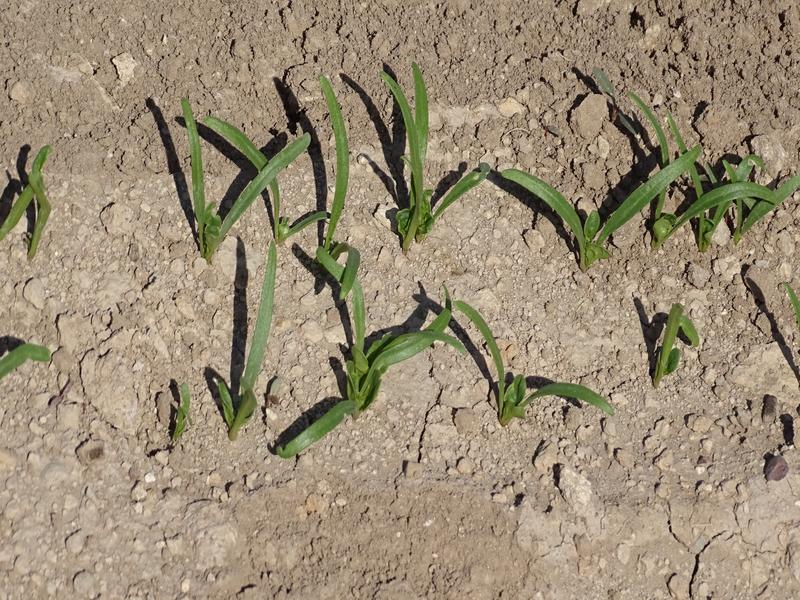Espinaca: (223, 257, 450, 456), (502, 103, 795, 255), (165, 84, 364, 238), (459, 295, 608, 423), (382, 73, 490, 241), (1, 144, 62, 255), (646, 299, 703, 389)
